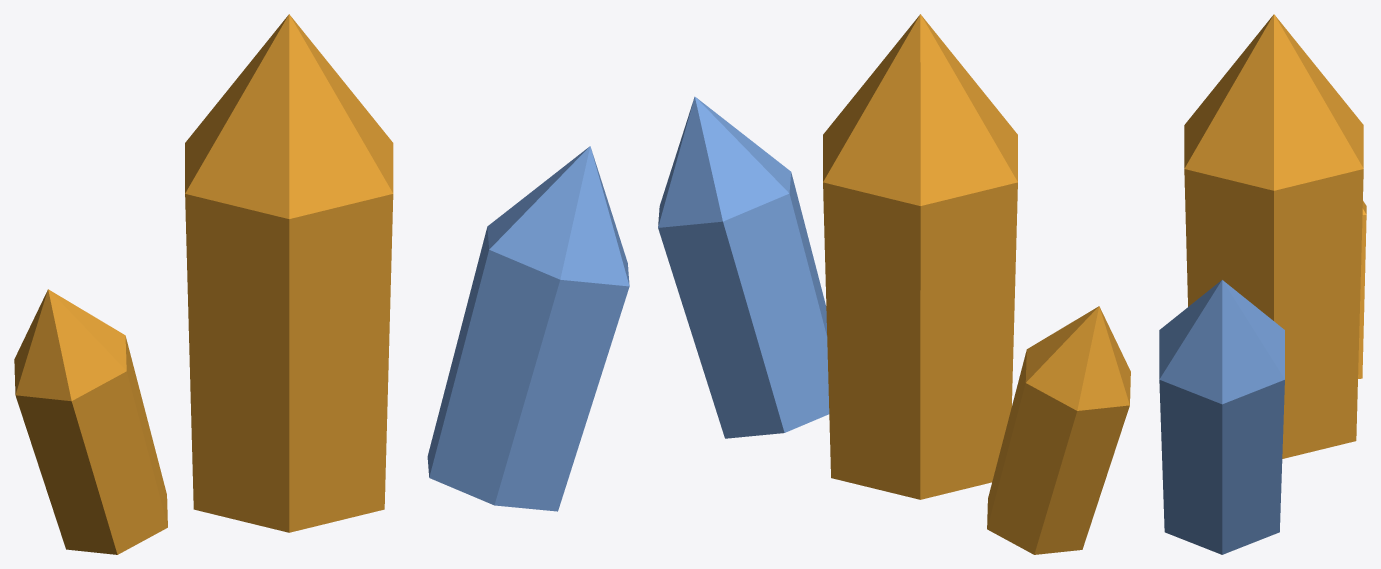
Rendered from deco_crystal.obj.
3 renders of one model, left to right at view 1: azimuth 30°, elevation 25°; view 2: azimuth 150°, elevation 25°; view 3: azimuth 270°, elevation 25°, orthographic. The views are drawn at different scales.
Parts seen in each view (by area): view 1: deco_crystal; view 2: deco_crystal; view 3: deco_crystal.
Part boxes in pixels (x1=…): deco_crystal: x1=14, y1=14, x2=629, y2=554; deco_crystal: x1=658, y1=14, x2=1130, y2=554; deco_crystal: x1=1159, y1=14, x2=1366, y2=554.
Size of the model in its own units: 0.0642 by 0.0564 by 0.024.
1 material, 1 textured.
